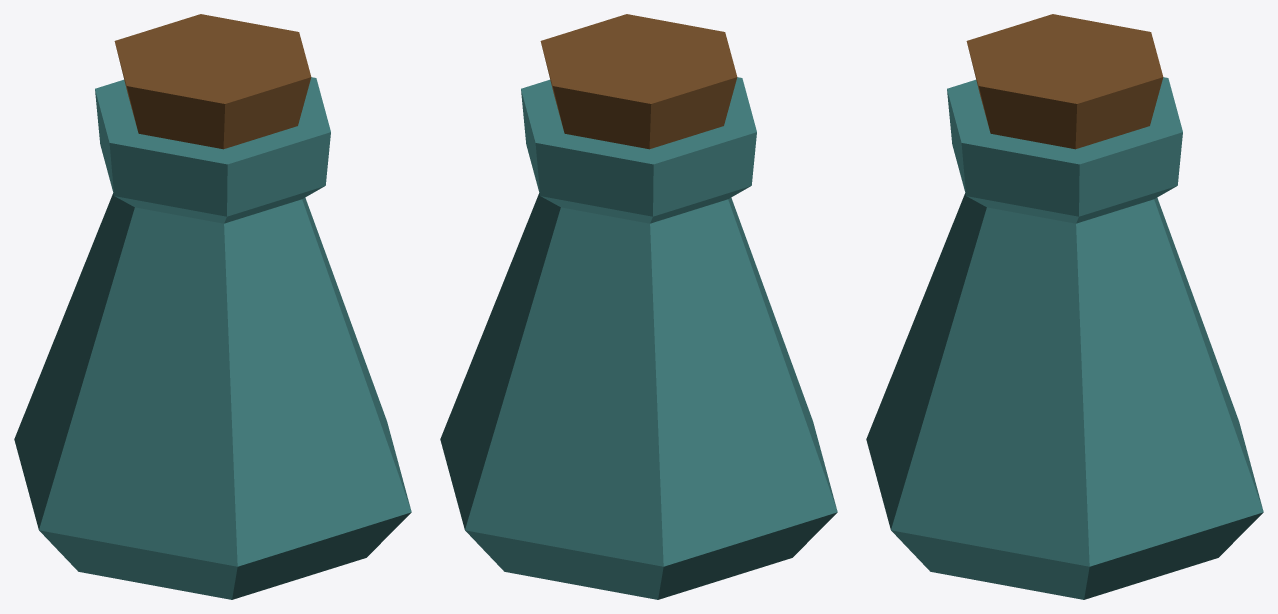
Rendered from Potion.fbx.
The picture shows the model from 3 angles, left to right: view 1: azimuth 30°, elevation 25°; view 2: azimuth 150°, elevation 25°; view 3: azimuth 270°, elevation 25°; orthographic projection.
Parts seen in each view (by area): view 1: Object058.001; view 2: Object058.001; view 3: Object058.001.
Boxes of the visible parts, x1,y1,x2,y2 form: Object058.001: (14,14,411,599); Object058.001: (440,14,837,599); Object058.001: (866,14,1263,599).
Size of the model in its own units: 29.75 by 35.89 by 27.47.
